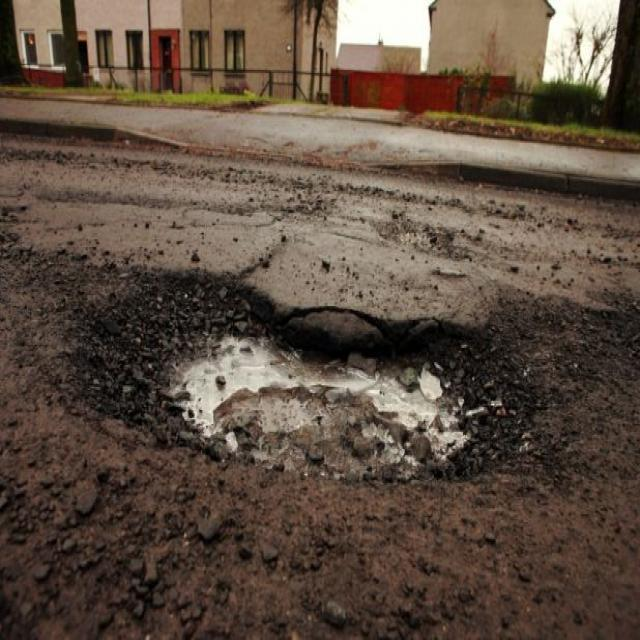Pothole: (68, 256, 544, 485)
